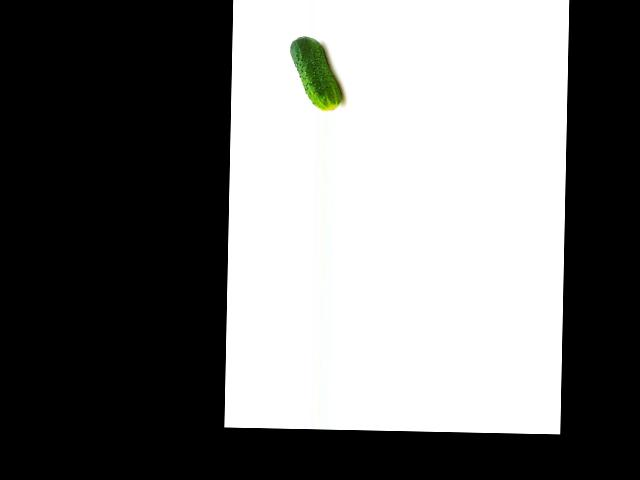cucumber: (288, 36, 343, 111)
